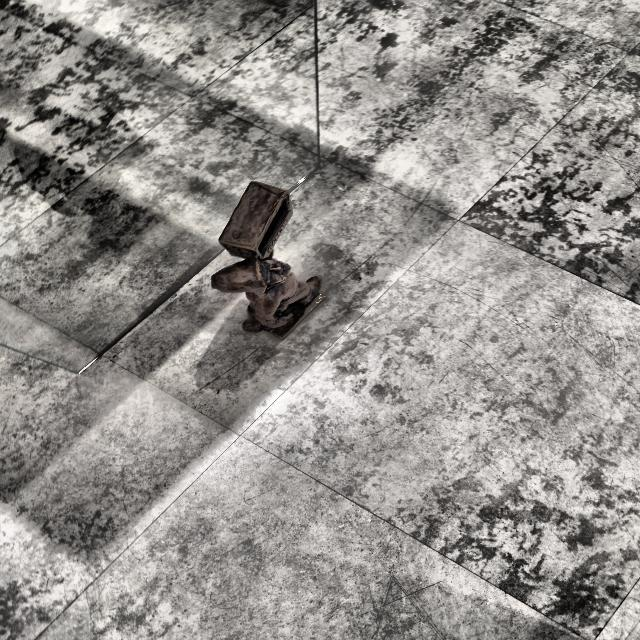GigaHercjusz: (212, 182, 325, 339)
